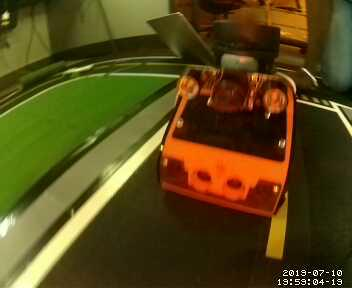pheeno: (146, 15, 290, 225)
